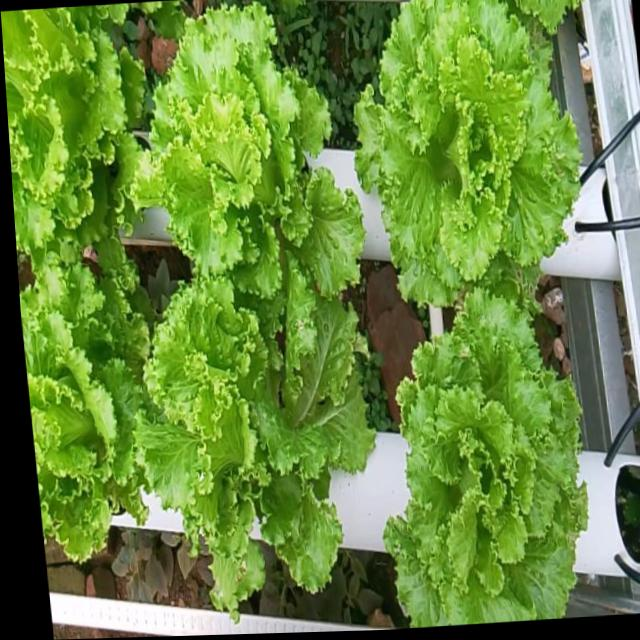Mature: (128, 279, 370, 611), (380, 271, 586, 627), (130, 0, 357, 316), (346, 0, 576, 296), (19, 264, 139, 568), (1, 6, 131, 271)
